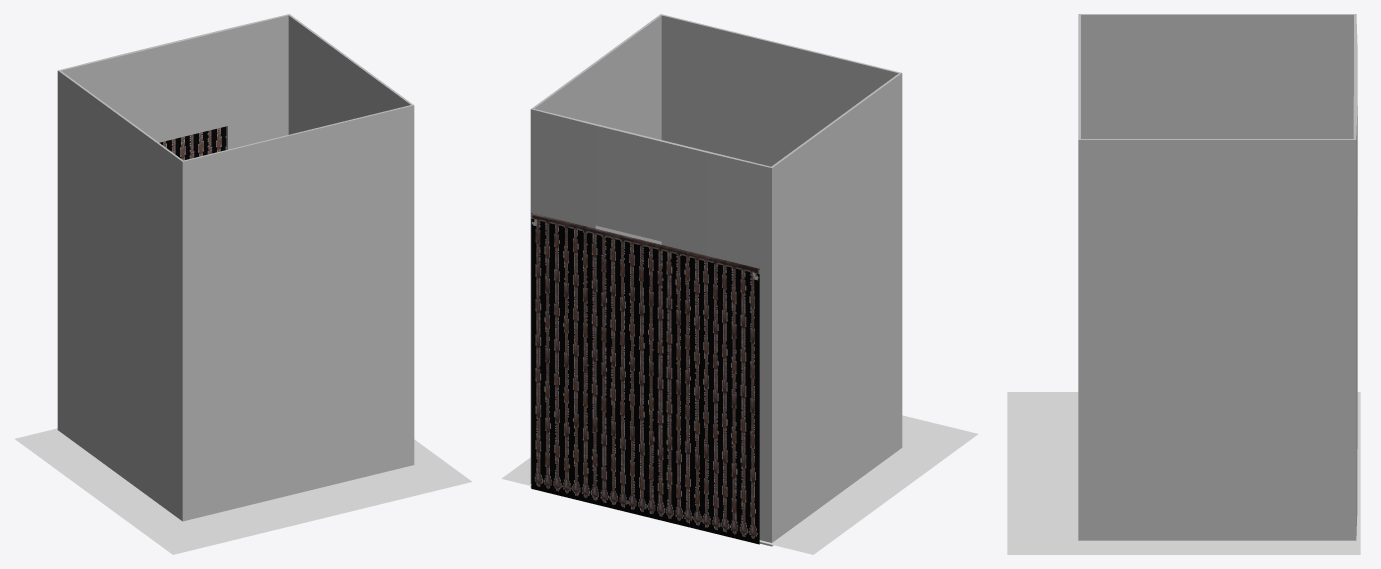
The model's file is Room_Storeroom.fbx.
The picture shows the model from 3 angles, left to right: view 1: azimuth 30°, elevation 25°; view 2: azimuth 150°, elevation 25°; view 3: azimuth 270°, elevation 25°; orthographic projection. The views are drawn at different scales.
Visible parts, largest first — view 1: Walls.010, Plane.024, Plane.027; view 2: Walls.010, Plane.027, Plane.024; view 3: Walls.010, Plane.024.
Part boxes in pixels (left/top/right/bottom): Walls.010: left=57, top=14, right=414, bottom=521; Plane.024: left=15, top=428, right=471, bottom=554; Plane.027: left=159, top=126, right=226, bottom=160; Walls.010: left=530, top=14, right=902, bottom=546; Plane.027: left=531, top=213, right=759, bottom=544; Plane.024: left=501, top=415, right=978, bottom=554; Walls.010: left=1078, top=14, right=1357, bottom=540; Plane.024: left=1007, top=392, right=1360, bottom=554.
Size of the model in its own units: 361 by 418 by 337.
